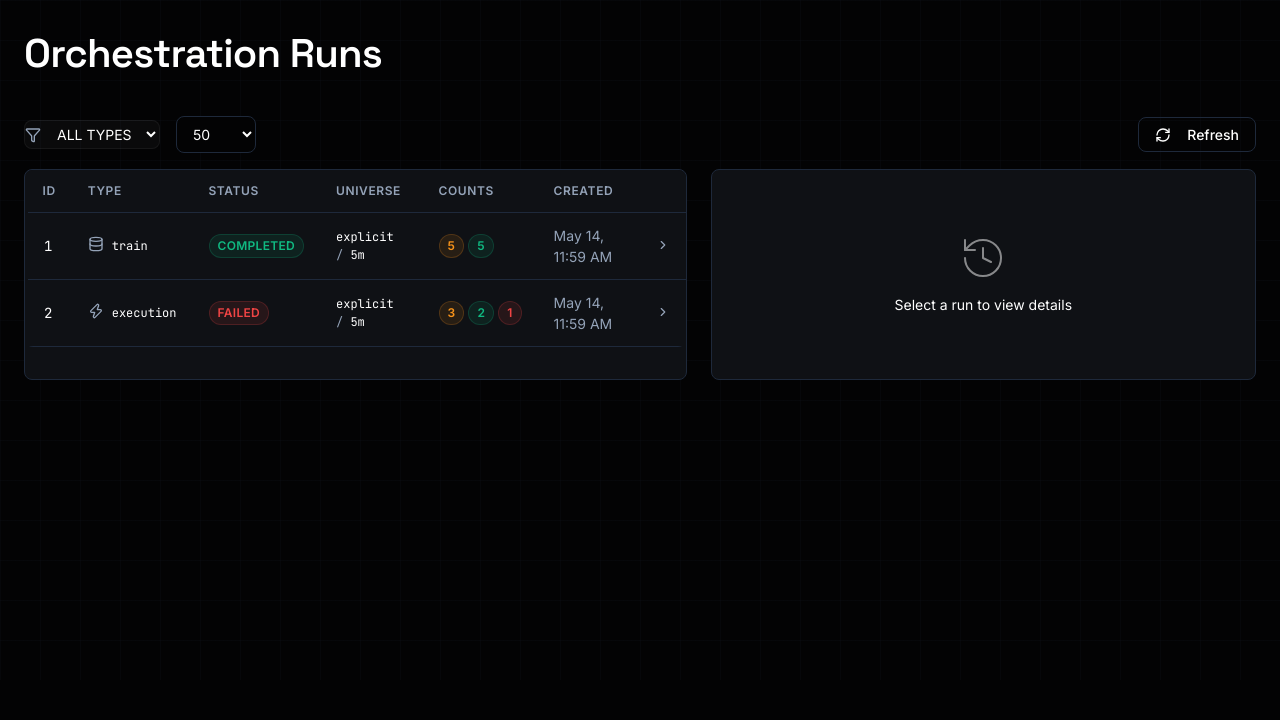
Test case: RunsPage › renders failure reason when present
What coordinates should you click on to do the following:
click the row with test id "run-row-2"
I would click on:
 (356, 313)
Its box is x1=26 y1=280 x2=686 y2=346.
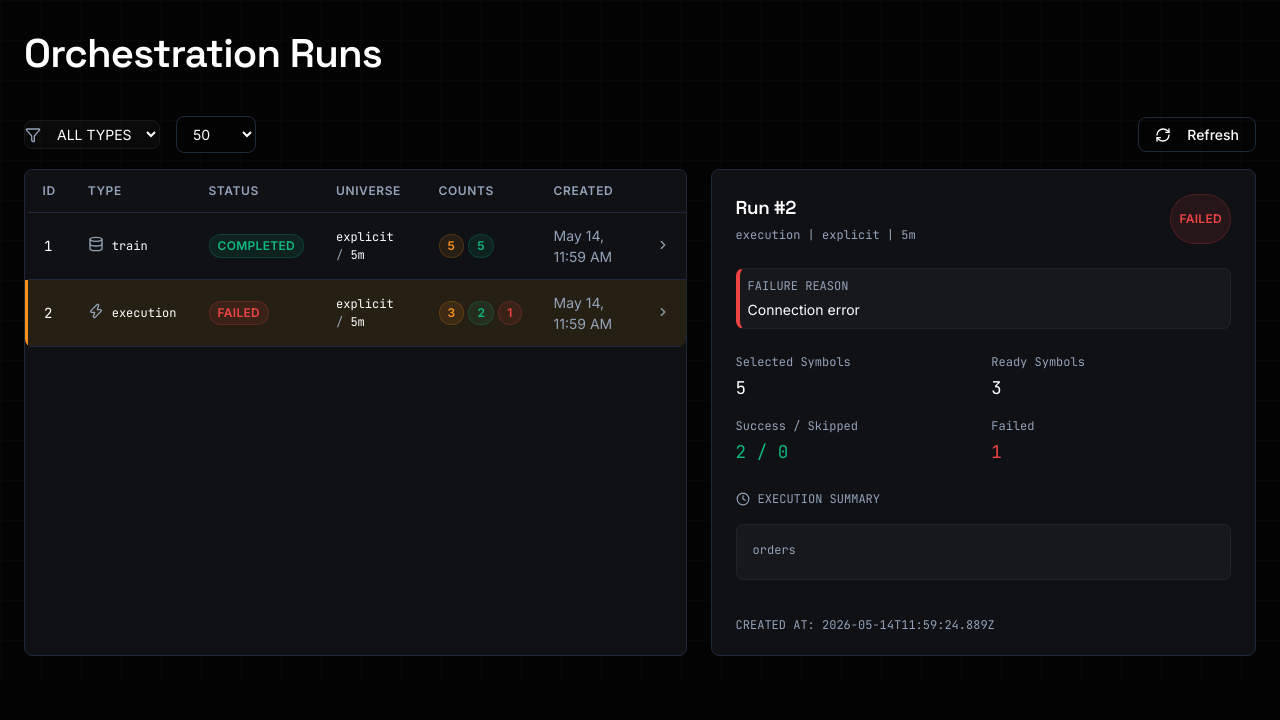
Result: the text "FAILURE REASON" is shown at x1=748 y1=278 x2=848 y2=294
Result: the text "Connection error" is shown at x1=748 y1=301 x2=860 y2=318
